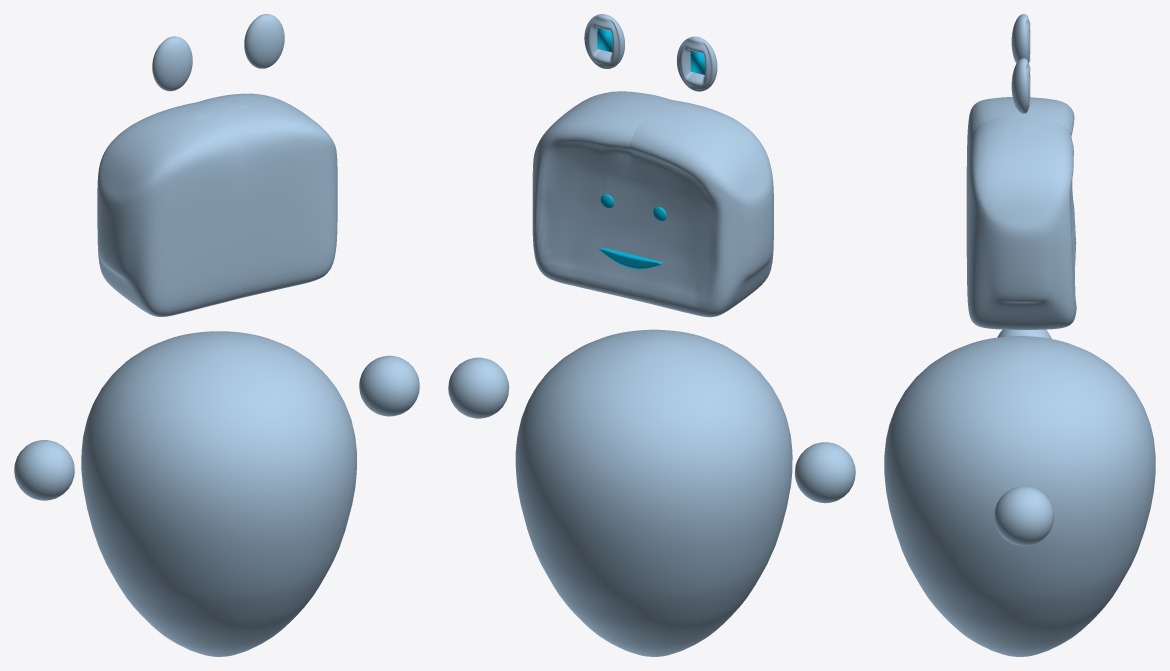
The model's file is robot.glb.
The picture shows the model from 3 angles, left to right: view 1: azimuth 30°, elevation 25°; view 2: azimuth 150°, elevation 25°; view 3: azimuth 270°, elevation 25°; orthographic projection.
Visible parts, largest first — view 1: Sphere.004; view 2: Sphere.004, Plane.002; view 3: Sphere.004.
Boxes of the visible parts, box(x1,y1,x2,y2) form: Sphere.004: box(14, 14, 419, 656); Sphere.004: box(448, 14, 855, 656); Plane.002: box(599, 247, 662, 269); Sphere.004: box(884, 14, 1155, 656).
Bounding box in the file's own units: 0.8065 × 1.21 × 0.4842.
